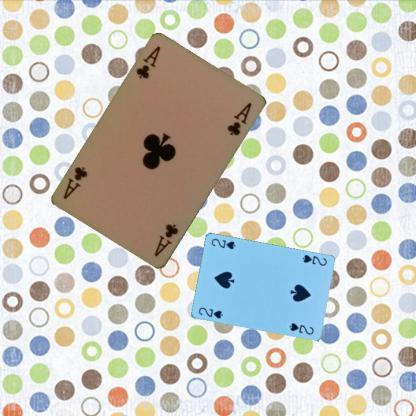2s: (196, 304, 224, 321), (300, 252, 327, 267)
Ac: (133, 43, 162, 81), (152, 221, 180, 258)
